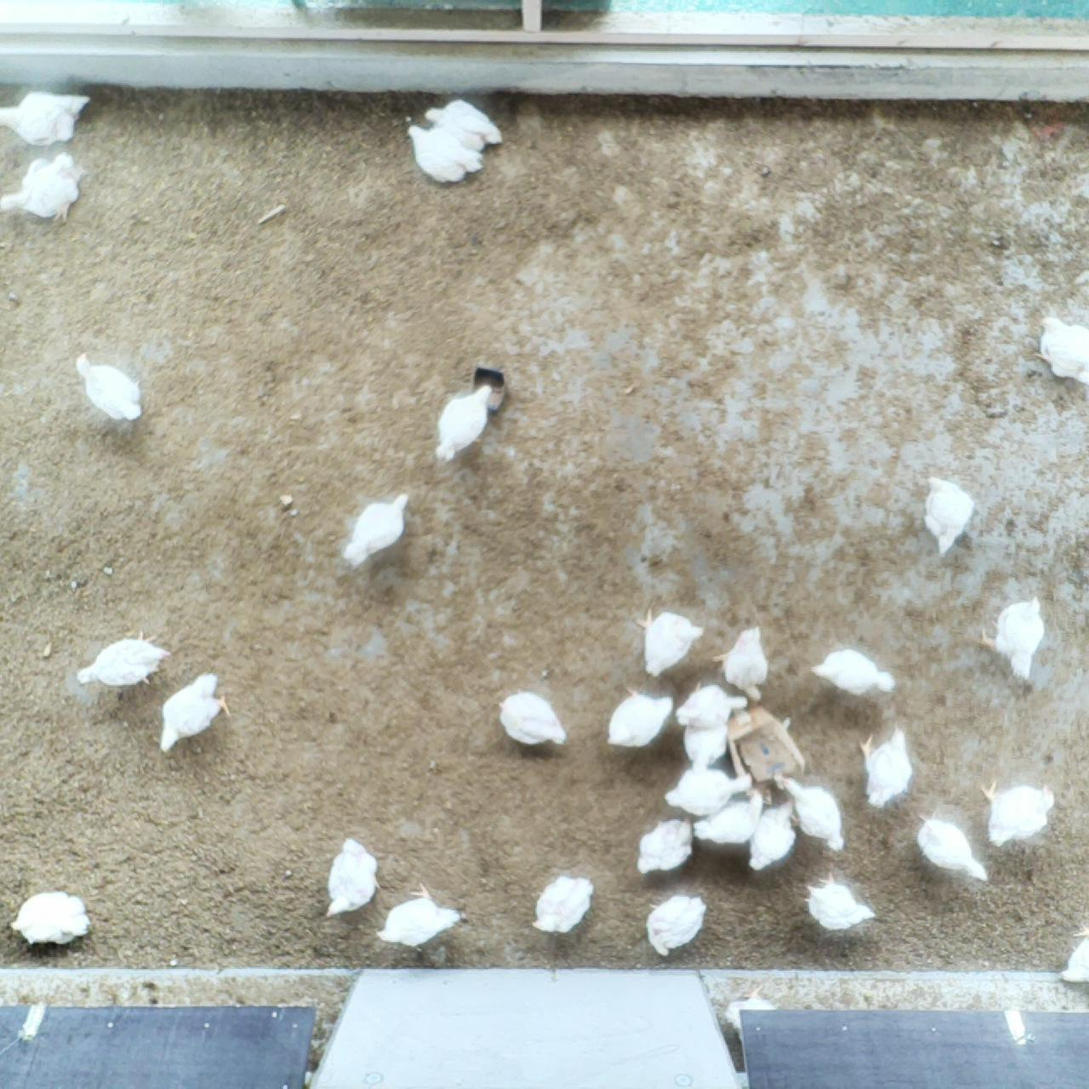chicken: (0, 146, 85, 226), (155, 667, 230, 754), (909, 809, 992, 885), (374, 881, 465, 950), (978, 594, 1046, 684), (74, 629, 172, 691), (71, 350, 146, 427), (7, 886, 96, 950), (0, 88, 93, 149), (341, 489, 412, 568), (776, 774, 848, 851), (978, 777, 1055, 847), (854, 719, 913, 810), (796, 867, 879, 931), (419, 95, 503, 158), (404, 122, 483, 188), (634, 605, 706, 677), (322, 834, 382, 920), (808, 645, 899, 700), (660, 766, 753, 818), (434, 379, 491, 463), (496, 688, 569, 752), (692, 787, 766, 849), (714, 624, 771, 704), (1030, 309, 1089, 386), (644, 893, 711, 960), (922, 473, 976, 556), (676, 679, 751, 738), (606, 685, 675, 749), (533, 872, 597, 938), (745, 798, 799, 871), (637, 815, 694, 874), (683, 712, 732, 770), (1059, 912, 1089, 991)
